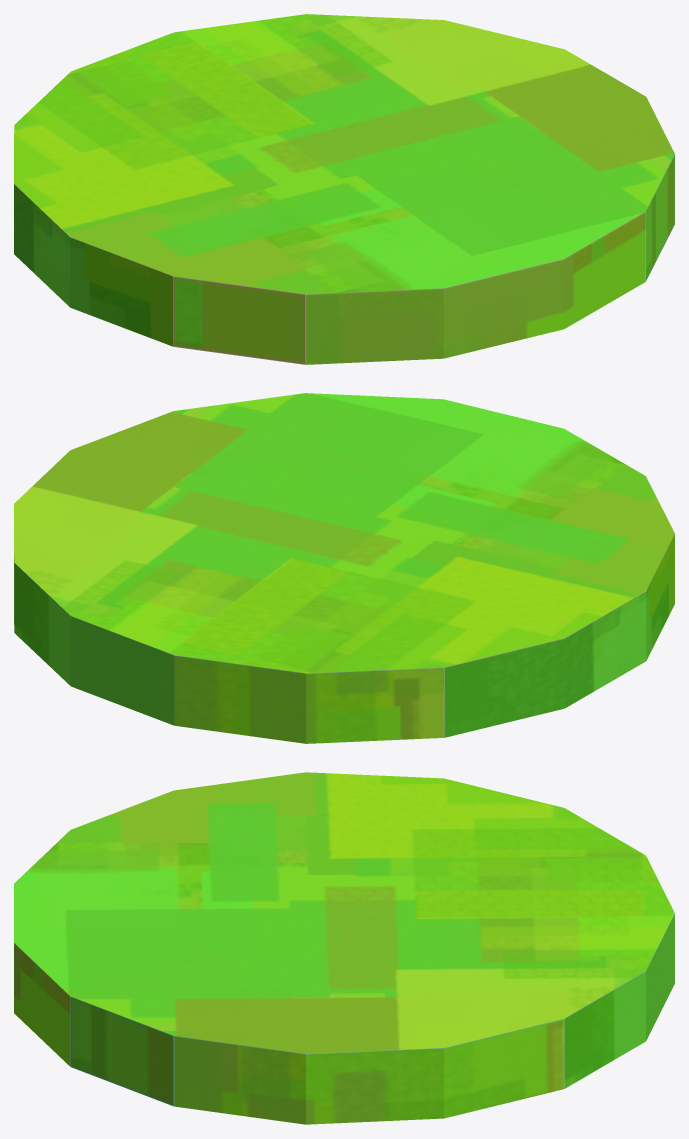
File: saladeTranche.fbx
3 renders of one model, top to bottom at view 1: azimuth 30°, elevation 25°; view 2: azimuth 150°, elevation 25°; view 3: azimuth 270°, elevation 25°, orthographic.
Visible parts, largest first — view 1: cylinder; view 2: cylinder; view 3: cylinder.
Part boxes in pixels (x1=…): cylinder: x1=14, y1=14, x2=674, y2=364; cylinder: x1=14, y1=393, x2=674, y2=743; cylinder: x1=14, y1=772, x2=674, y2=1124.
Bounding box in the file's own units: 64.17 × 7.5 × 63.62.
1 material, 1 textured.
